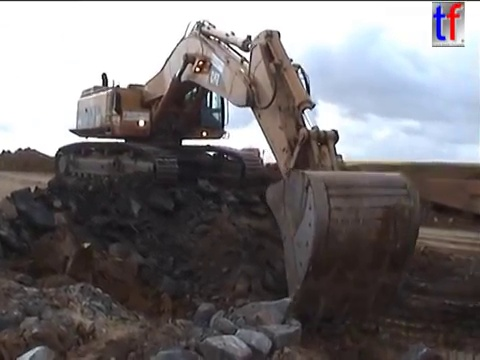excavator: (49, 16, 424, 338)
